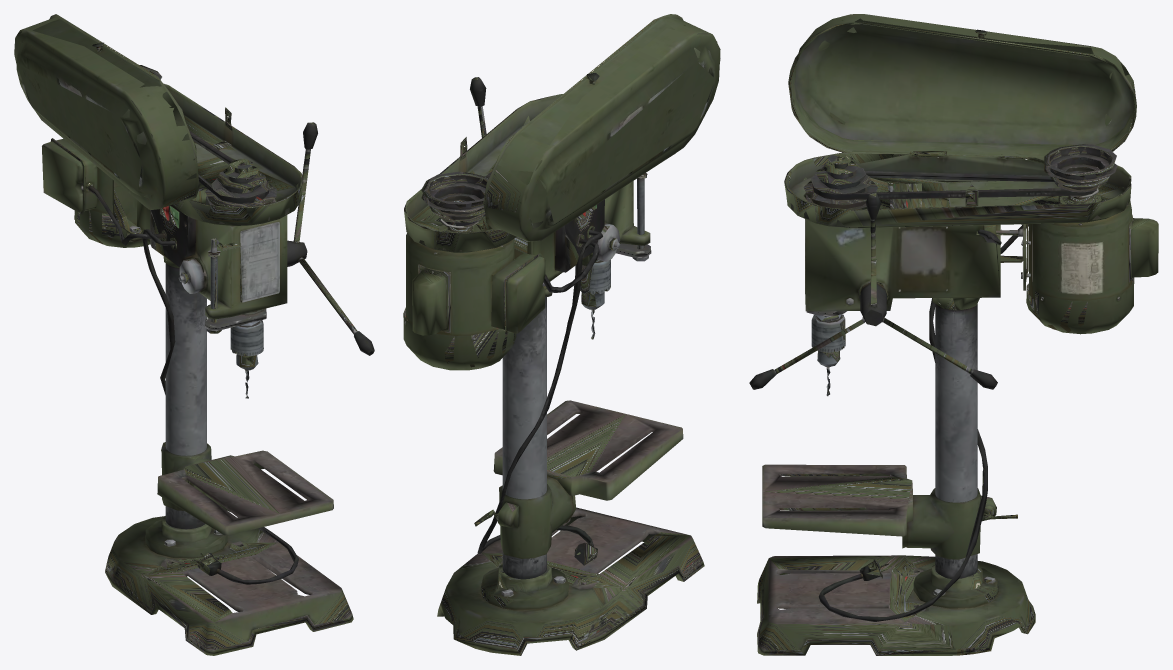
The model's file is drill_press_01.glb.
The picture shows the model from 3 angles, left to right: view 1: azimuth 30°, elevation 25°; view 2: azimuth 150°, elevation 25°; view 3: azimuth 270°, elevation 25°; orthographic projection. The views are drawn at different scales.
Parts seen in each view (by area): view 1: drill_press_01; view 2: drill_press_01; view 3: drill_press_01.
Boxes of the visible parts, x1,y1,x2,y2 form: drill_press_01: (14, 14, 374, 655); drill_press_01: (403, 14, 720, 655); drill_press_01: (749, 14, 1158, 655).
Bounding box in the file's own units: 0.354 × 0.9011 × 0.5982.
Materials: 1 (1 with a texture image).
